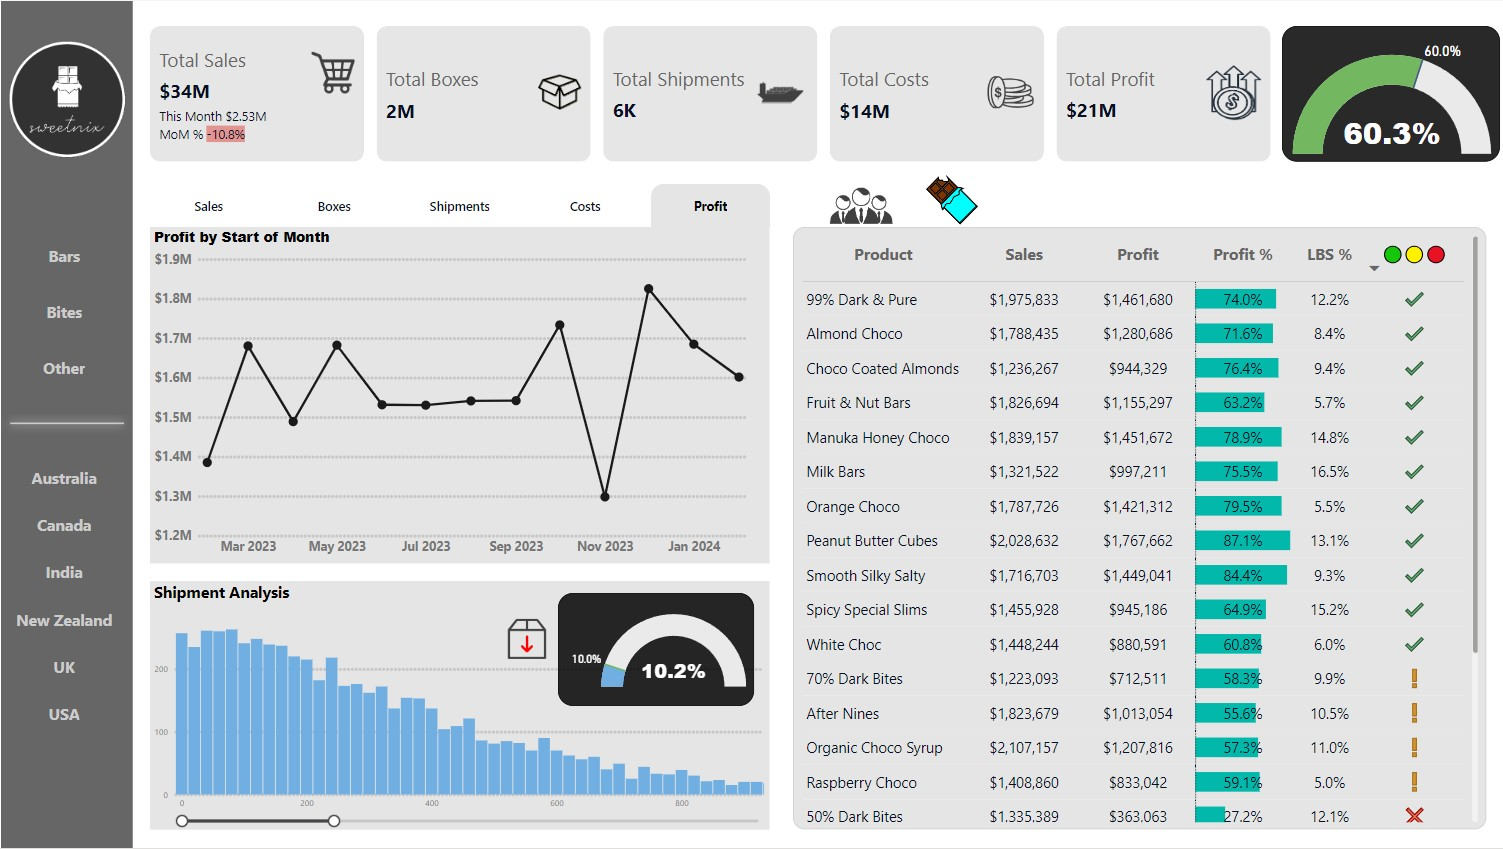

This screenshot's page, from the dashboard's own definition file:
{"tool":"powerbi","page":{"name":"SweetNix DashB","canvas":[1920,1080],"ordinal":6},"visuals":[{"type":"shape","box":[0,0,168.3,1080],"z":0},{"type":"cardVisual","fields":{"Data":["_Measures.Total Sales","_Measures.Total Boxes","_Measures.Total Shipments","_Measures.Total Costs","_Measures.Total Profit"]},"box":[185.1,31.7,1441.7,173.3],"z":1000},{"type":"gauge","fields":{"Y":["_Measures.Profit %"]},"box":[1633.4,31.7,278.3,173.3],"z":2000},{"type":"lineChart","fields":{"Y":["_Measures.Total Profit"],"Category":["calendar.Start of Month"]},"box":[190,288.6,790,428.6],"z":3000},{"type":"advancedSlicerVisual","fields":{"Values":["Measure Selector.Measure Selector"]},"box":[188.8,228.8,792.5,60],"z":4000},{"type":"columnChart","title":"Shipment Analysis","fields":{"Category":["shipments.Boxes (bins)"],"Y":["_Measures.Total Shipments"]},"box":[190,740,790,317.1],"z":5000},{"type":"gauge","fields":{"Y":["_Measures.LBS %"]},"box":[710,754.3,250,144.3],"z":6000},{"type":"image","box":[631.4,782.9,78.6,61.4],"z":7000},{"type":"tableEx","title":"Product Details","fields":{"Values":["products.Product","_Measures.Total Sales","_Measures.Total Profit","_Measures.Profit %","_Measures.LBS %","_Measures.Profit Target Indicator"]},"box":[1010.1,287.9,884.4,768.3],"z":9000},{"type":"advancedSlicerVisual","fields":{"Values":["products.Category"]},"box":[0,288.3,161.7,215],"z":11000},{"type":"advancedSlicerVisual","fields":{"Values":["locations.Geo"]},"box":[0,576.7,161.7,363.3],"z":12000},{"type":"image","box":[0,45.6,168.8,159.1],"z":13000},{"type":"shape","box":[0,520.2,168.6,36.6],"z":14000},{"type":"image","title":"People NotSelected","box":[1051.8,222.7,90,71.8],"z":15000},{"type":"image","title":"Product NotSelected","box":[1167.3,216.4,91.8,72.7],"z":16000},{"type":"image","title":"Product","box":[1167.3,216.4,90.9,71.8],"z":17000}]}

Visuals, with their boxes in screenshot pixels (x1, y1, x2, y2), scaled from the page's 1920x1080 canvas onto the 1503x849 screenshot:
shape: bbox=(0, 0, 132, 848)
cardVisual - _Measures.Total Sales x _Measures.Total Boxes: bbox=(145, 25, 1273, 161)
gauge - _Measures.Profit %: bbox=(1279, 25, 1497, 161)
lineChart - _Measures.Total Profit x calendar.Start of Month: bbox=(149, 227, 767, 564)
advancedSlicerVisual - Measure Selector.Measure Selector: bbox=(148, 180, 768, 227)
"Shipment Analysis" columnChart: bbox=(149, 582, 767, 831)
gauge - _Measures.LBS %: bbox=(556, 593, 752, 706)
image: bbox=(494, 615, 556, 664)
"Product Details" tableEx: bbox=(791, 226, 1483, 830)
advancedSlicerVisual - products.Category: bbox=(0, 227, 127, 396)
advancedSlicerVisual - locations.Geo: bbox=(0, 453, 127, 739)
image: bbox=(0, 36, 132, 161)
shape: bbox=(0, 409, 132, 438)
"People NotSelected" image: bbox=(823, 175, 894, 232)
"Product NotSelected" image: bbox=(914, 170, 986, 227)
"Product" image: bbox=(914, 170, 985, 227)
